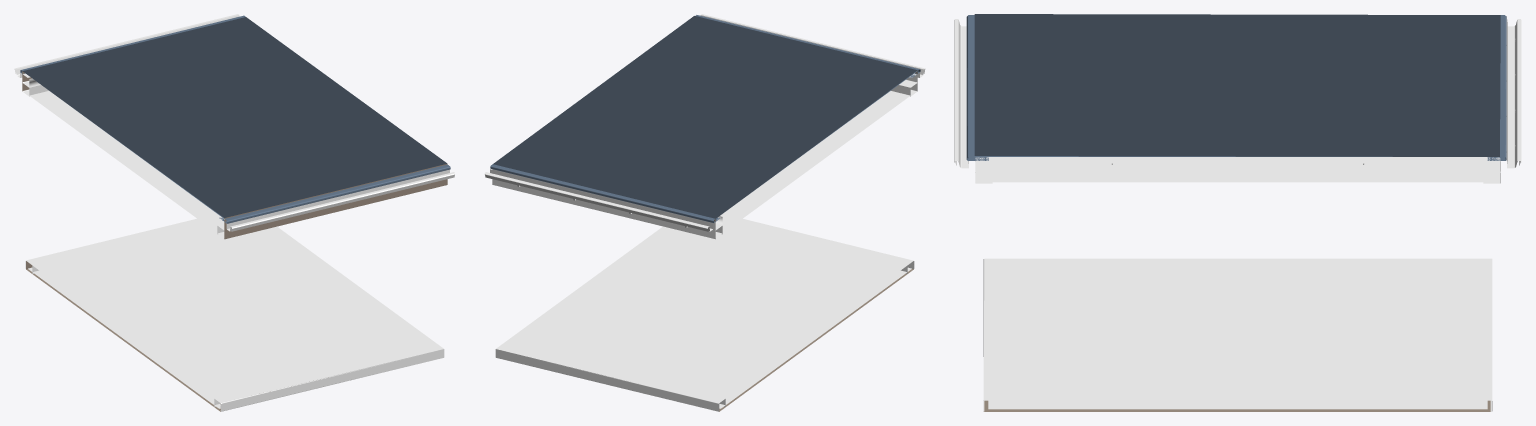
File: si_res_body_roof_flat_4m.dae
3 views of the same model, side by side, from view 1: azimuth 30°, elevation 25°; view 2: azimuth 150°, elevation 25°; view 3: azimuth 270°, elevation 25° (orthographic). The views are drawn at different scales.
Visible parts, largest first — view 1: si_res_body_roof_flat_4m_a20, si_res_body_roof_flat_4m_a500, si_res_body_roof_flat_4m_a200; view 2: si_res_body_roof_flat_4m_a500, si_res_body_roof_flat_4m_a20, si_res_body_roof_flat_4m_a200; view 3: si_res_body_roof_flat_4m_a500, si_res_body_roof_flat_4m_a20, si_res_body_roof_flat_4m_a200.
Part boxes in pixels (box(x1,y1,x2,y2)): si_res_body_roof_flat_4m_a20: box(22, 17, 447, 411); si_res_body_roof_flat_4m_a500: box(15, 14, 455, 411); si_res_body_roof_flat_4m_a200: box(15, 69, 454, 411); si_res_body_roof_flat_4m_a500: box(484, 14, 924, 411); si_res_body_roof_flat_4m_a20: box(493, 16, 917, 411); si_res_body_roof_flat_4m_a200: box(485, 69, 924, 411); si_res_body_roof_flat_4m_a500: box(954, 15, 1521, 411); si_res_body_roof_flat_4m_a20: box(974, 14, 1500, 411); si_res_body_roof_flat_4m_a200: box(955, 157, 1520, 411).
Bounding box in the file's own units: 4 × 6.76 × 3.36.
